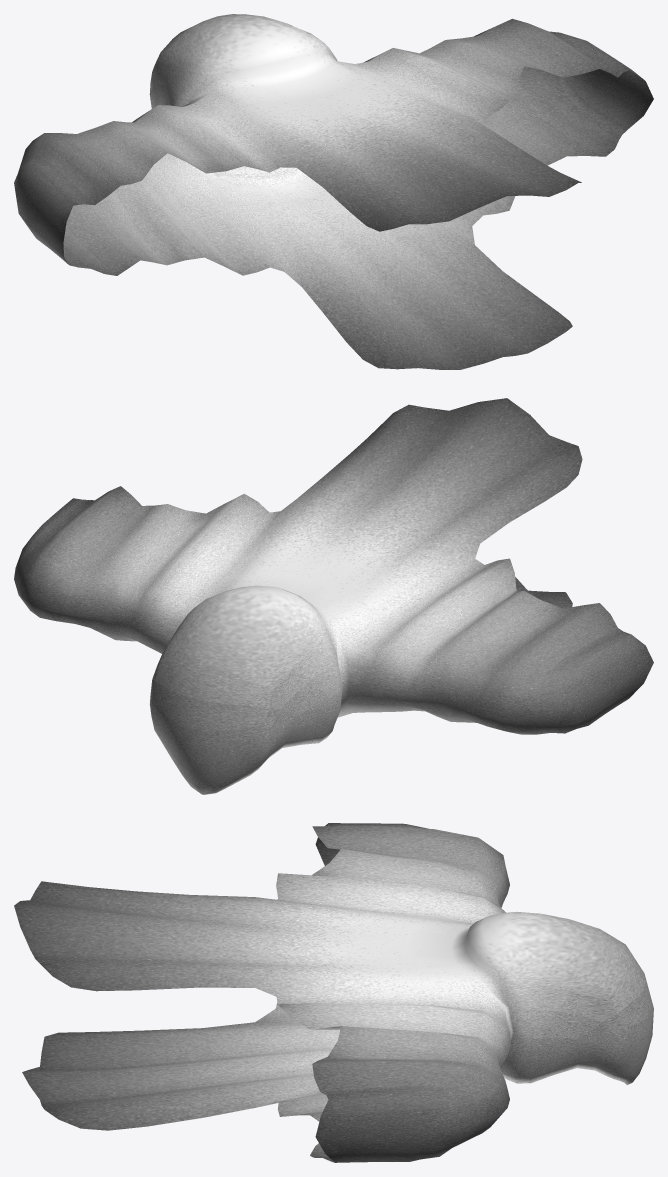
The model's file is Ghost.fbx.
3 views of the same model, one above another, from view 1: azimuth 30°, elevation 25°; view 2: azimuth 150°, elevation 25°; view 3: azimuth 270°, elevation 25° (orthographic).
Visible parts, largest first — view 1: fantasma; view 2: fantasma; view 3: fantasma.
Boxes of the visible parts, x1,y1,x2,y2 form: fantasma: [14, 14, 653, 369]; fantasma: [14, 398, 653, 794]; fantasma: [14, 823, 653, 1162].
Size of the model in its own units: 179 by 50.89 by 166.
